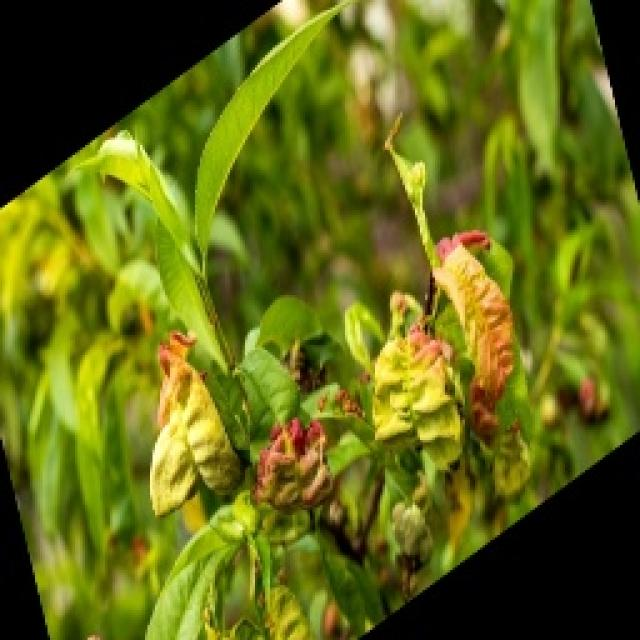peach_leaf_curl: (428, 235, 518, 445), (145, 328, 243, 520)
